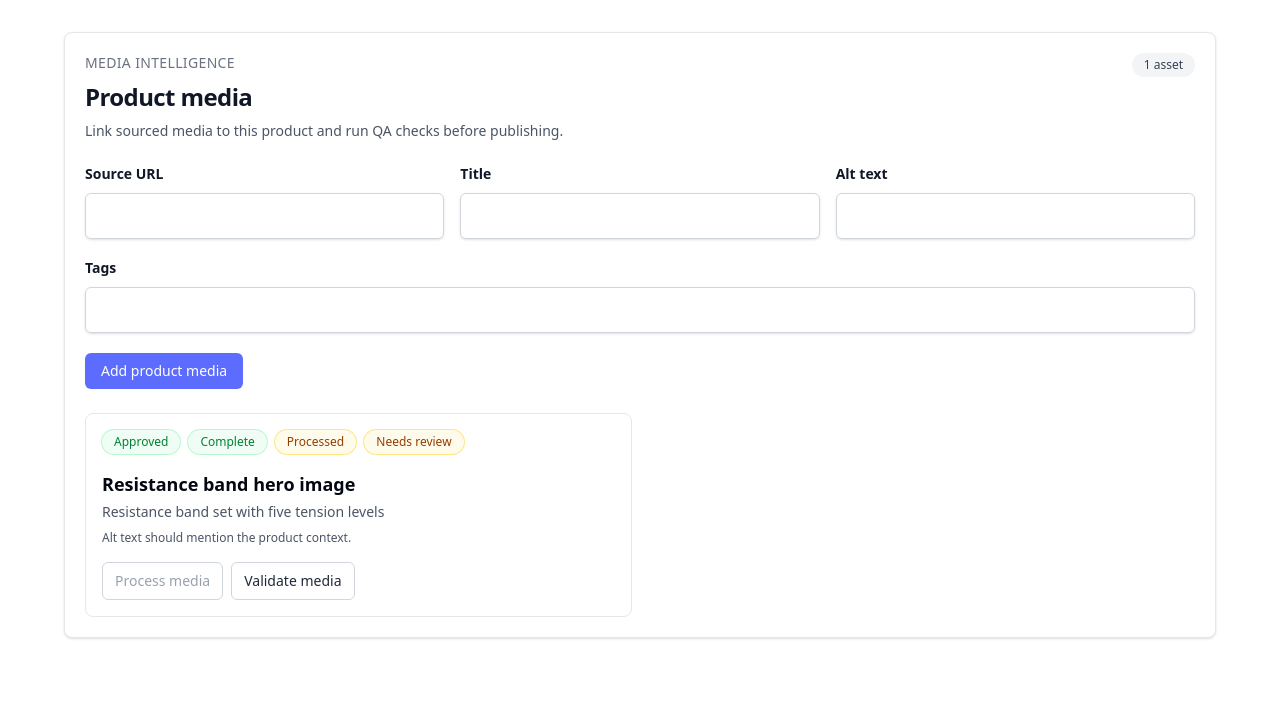
Test: ProductMediaPanel › shows product media with QA indicators and validation action
Check: the heading "Product media" is shown, box [85,80,252,113]
Check: the text "Needs review" is shown, box [364,430,464,454]
Click the button with aria-label "validate resistance band hero image": (293, 581) [231,562,354,600]
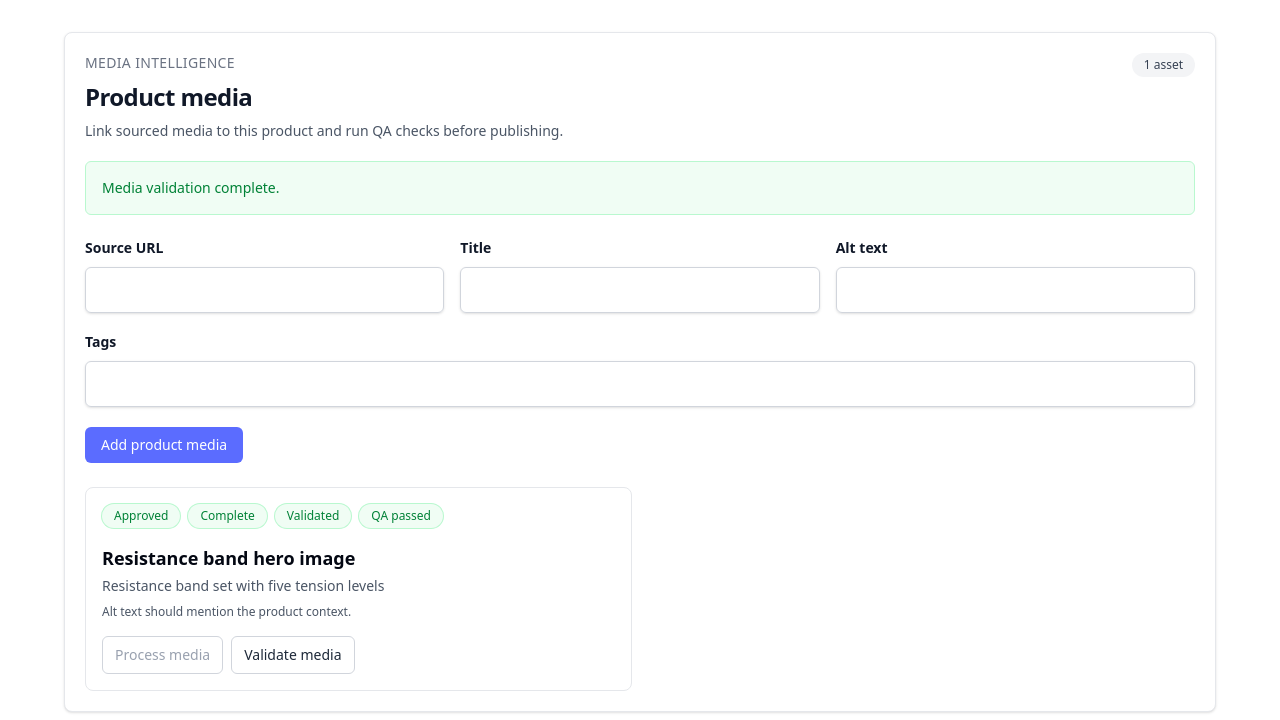
Check: the text "QA passed" is shown, box [359,504,443,528]
